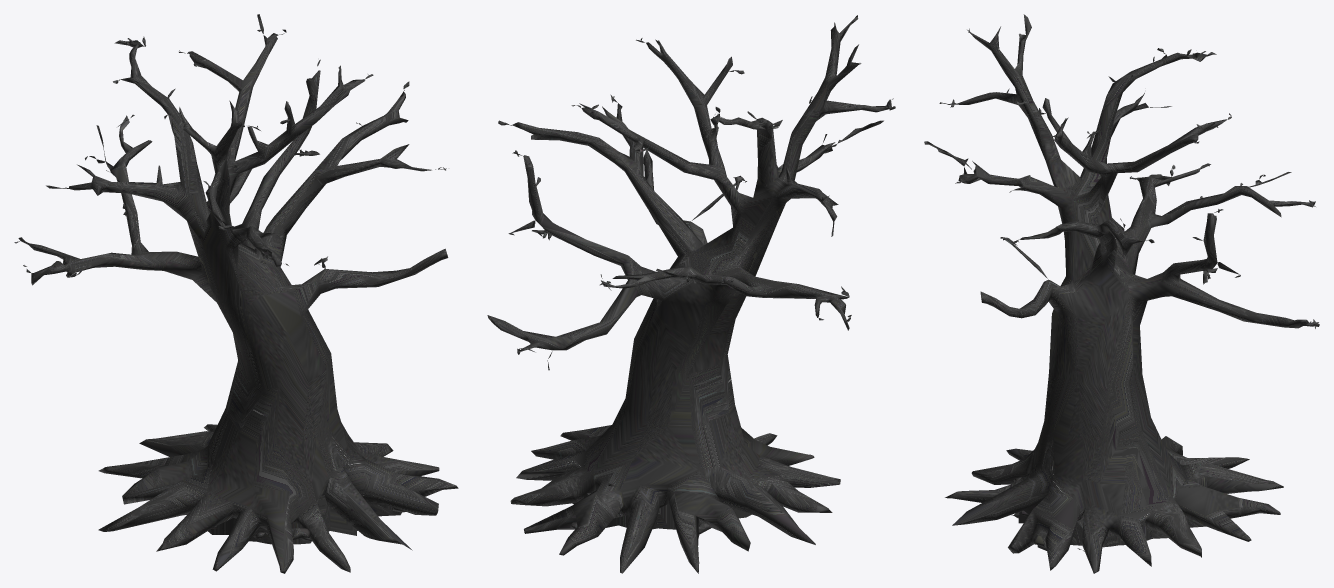
The model's file is wh-reachtree-c-pixelated.glb.
3 renders of one model, left to right at view 1: azimuth 30°, elevation 25°; view 2: azimuth 150°, elevation 25°; view 3: azimuth 270°, elevation 25°, orthographic. The views are drawn at different scales.
Visible parts, largest first — view 1: geometry_0; view 2: geometry_0; view 3: geometry_0.
Boxes of the visible parts, bbox=[...] form: geometry_0: bbox=[14, 14, 458, 573]; geometry_0: bbox=[487, 15, 895, 573]; geometry_0: bbox=[924, 14, 1319, 573].
Size of the model in its own units: 1.41 by 1.71 by 1.41.
1 material, 1 textured.
